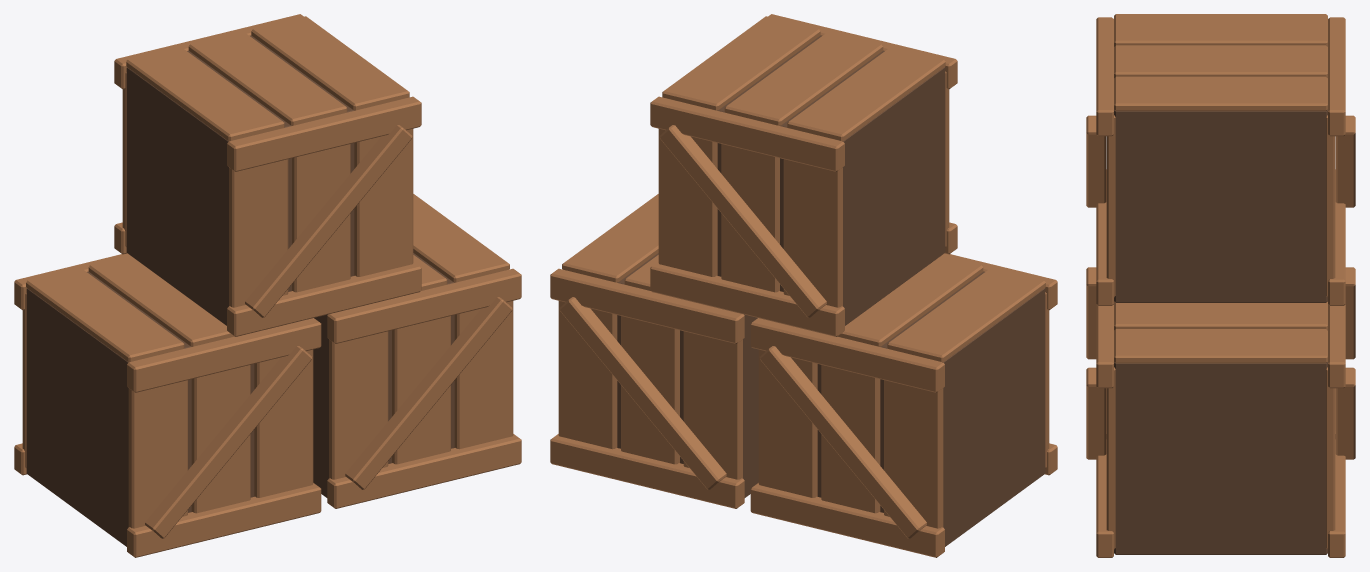
Rendered from wood_crate_stack_01.glb.
The picture shows the model from 3 angles, left to right: view 1: azimuth 30°, elevation 25°; view 2: azimuth 150°, elevation 25°; view 3: azimuth 270°, elevation 25°; orthographic projection. The views are drawn at different scales.
Visible parts, largest first — view 1: wood_crate_stack_01; view 2: wood_crate_stack_01; view 3: wood_crate_stack_01.
Part boxes in pixels (bbox=[...]): wood_crate_stack_01: bbox=[14, 14, 521, 557]; wood_crate_stack_01: bbox=[550, 14, 1057, 557]; wood_crate_stack_01: bbox=[1086, 14, 1355, 557].
Size of the model in its own units: 0.93 by 0.8978 by 0.5445.
